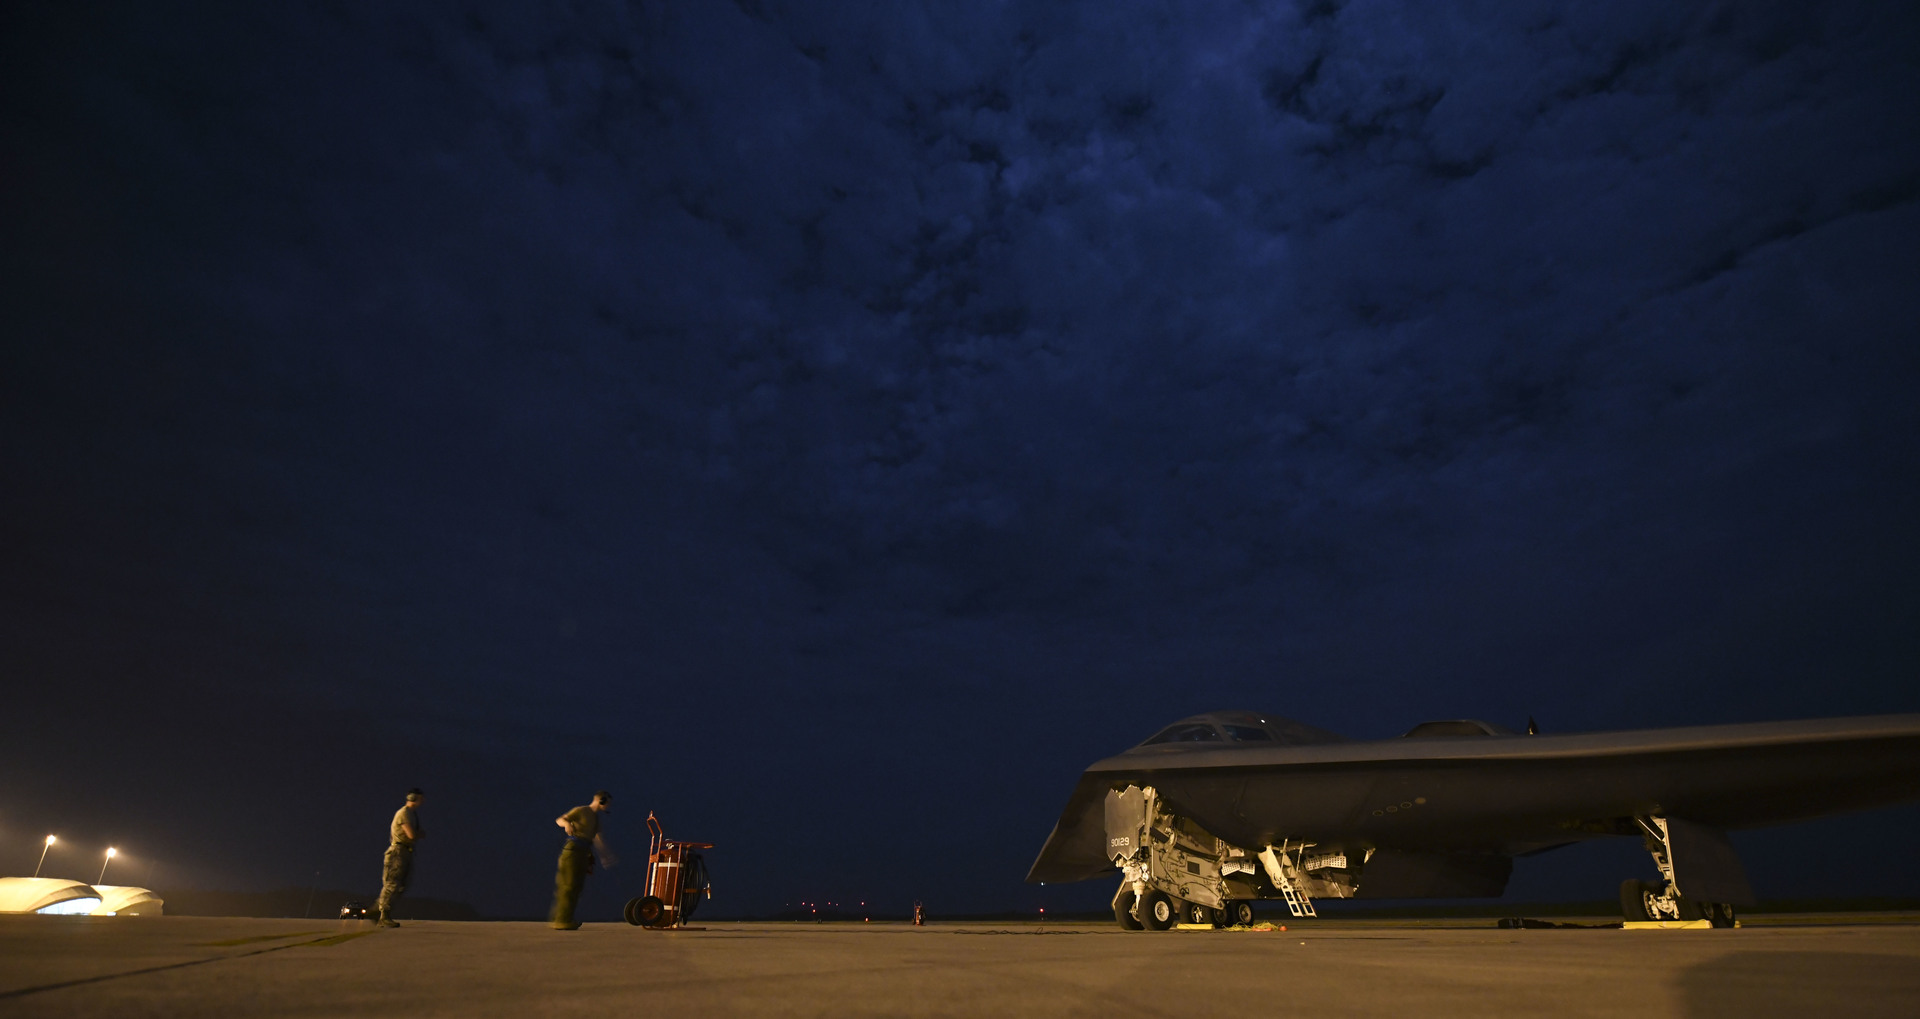B2: (1022, 709, 1920, 931)
